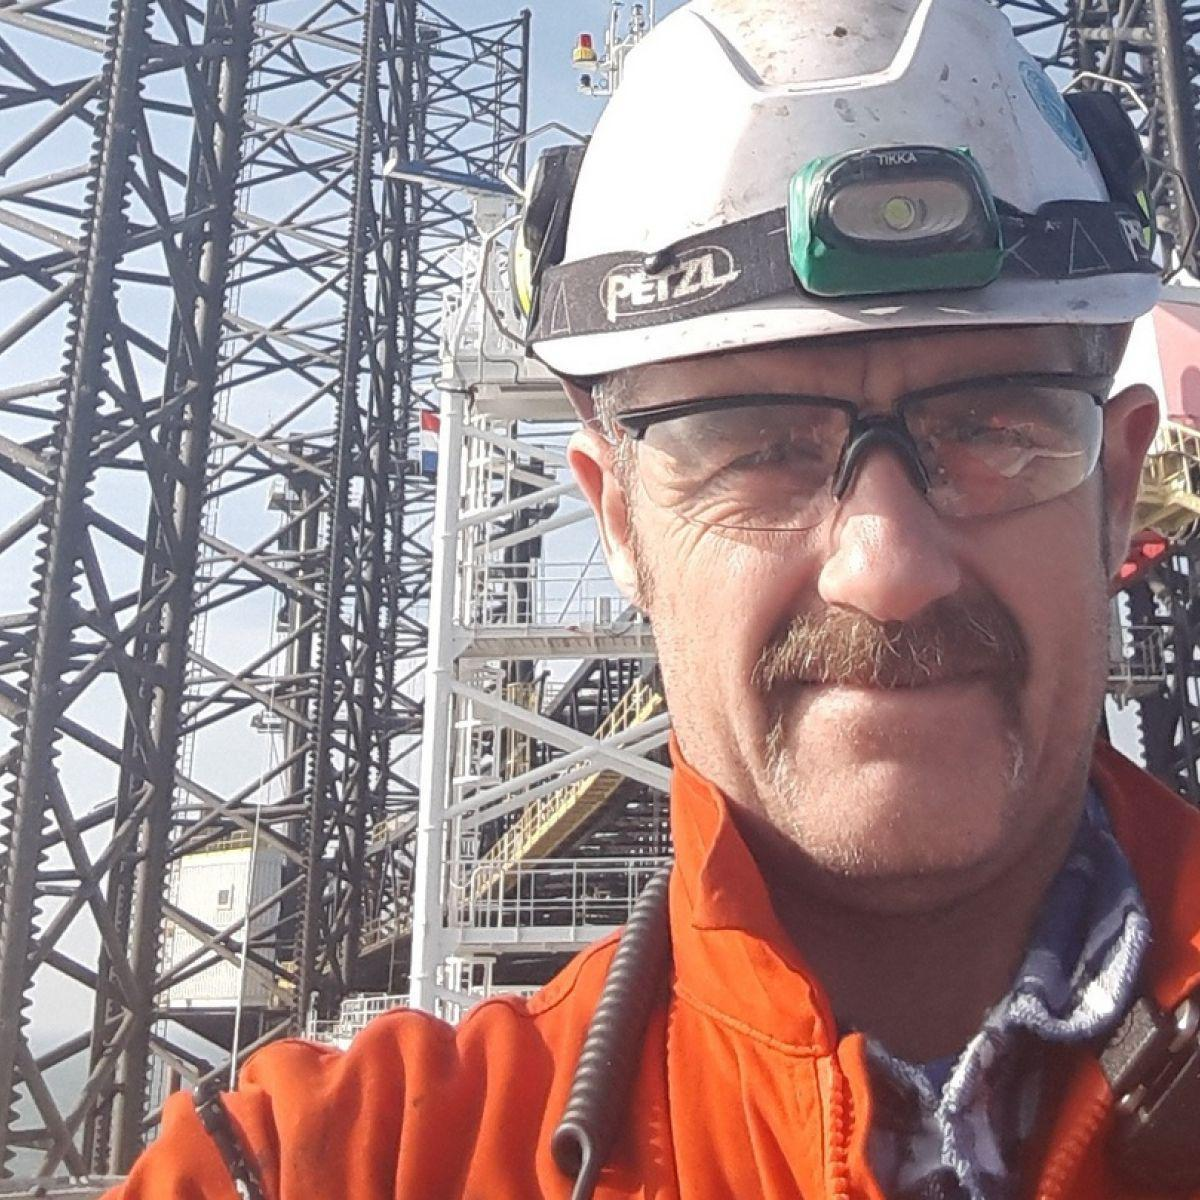helmet: (526, 0, 1173, 384)
